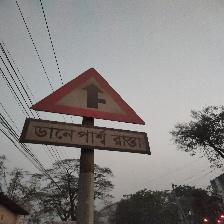Side-road-right: (25, 68, 149, 158)
